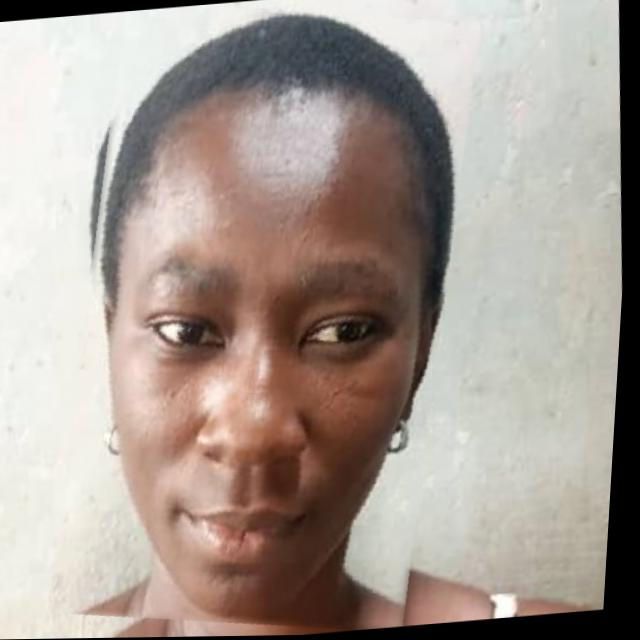sad: (32, 0, 503, 639)
